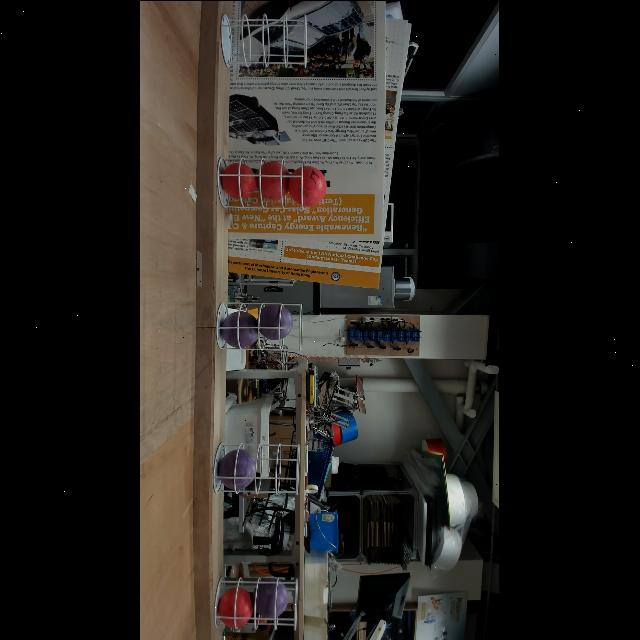P: (218, 448, 256, 490), (252, 576, 290, 618), (220, 310, 260, 348), (256, 302, 294, 340)
R: (288, 164, 328, 206), (218, 586, 255, 628), (255, 160, 291, 200), (221, 162, 257, 198)
S: (220, 10, 308, 68), (212, 440, 302, 496), (217, 155, 306, 209), (214, 574, 298, 630), (216, 301, 304, 351)
